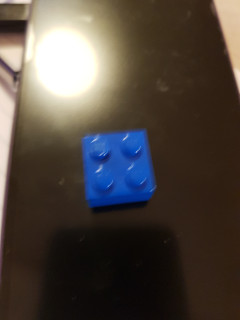2x2 blue: (79, 127, 160, 212)
